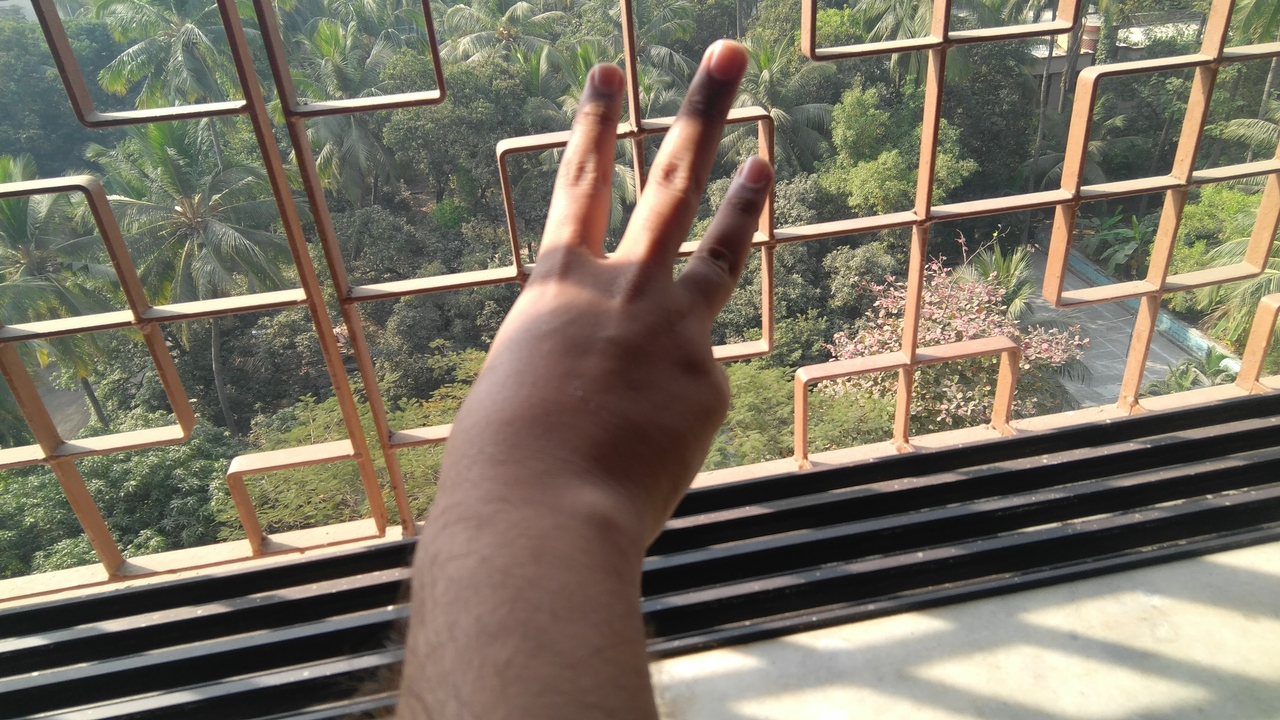fingertip: (724, 142, 780, 196), (700, 34, 750, 84), (578, 56, 628, 104)
